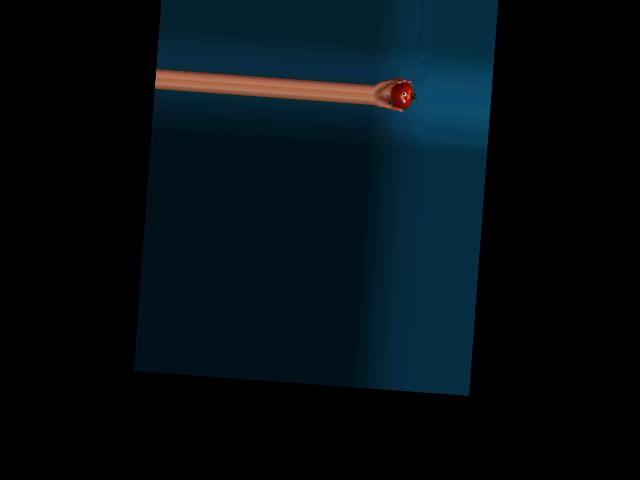tomato: (389, 81, 413, 109)
